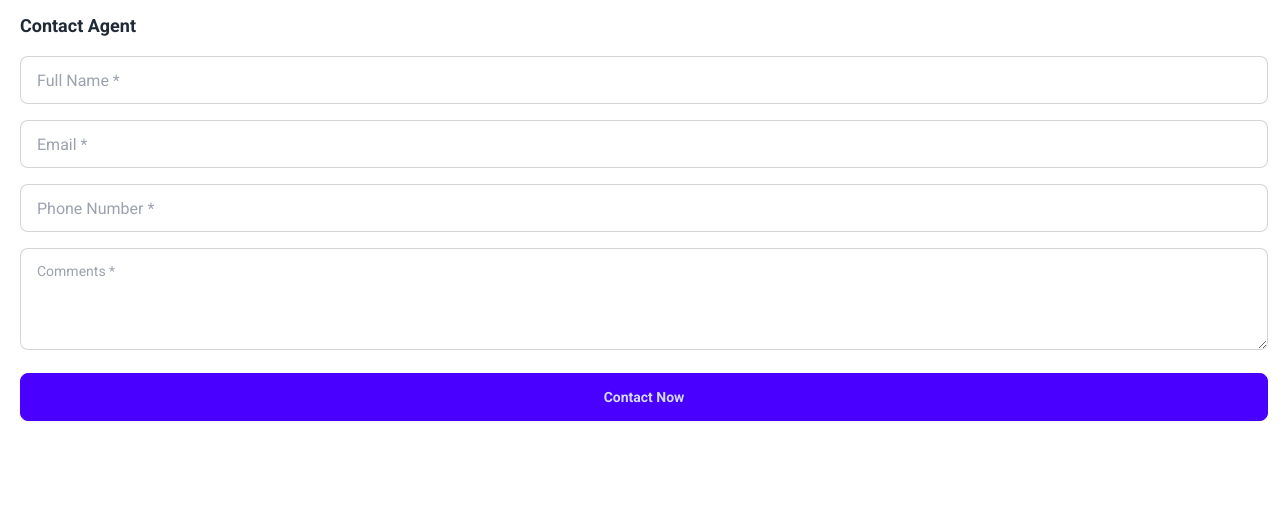
Test: ContactForm Component › submits the form and shows success notification
The width and height of the screenshot is (1280, 512).
# Fill out form
Type "John Doe" into the field with placeholder "Full Name *".
click(644, 80); type("John Doe")  # box [20,56,1268,104]
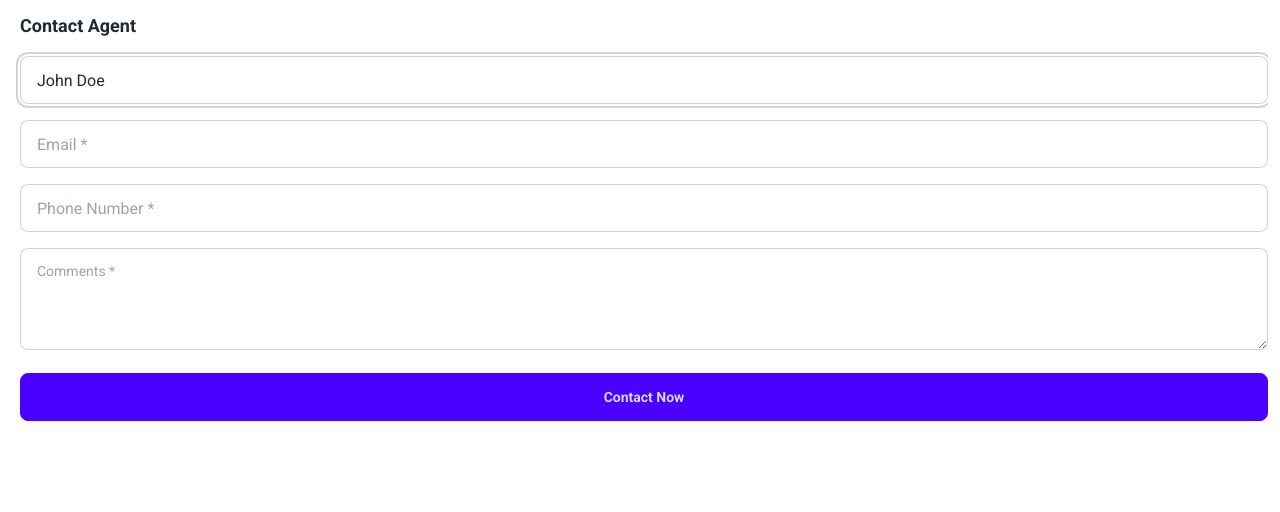
Type "john@example.com" into the field with placeholder "Email *".
click(644, 144); type("john@example.com")  # box [20,120,1268,168]
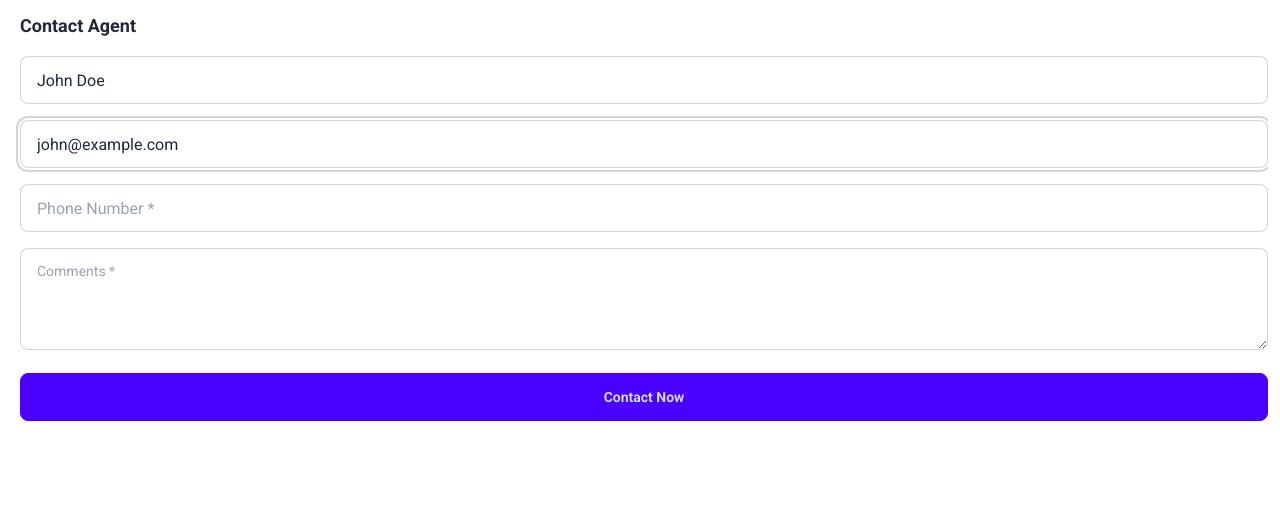
Type "1234567890" into the field with placeholder "Phone Number *".
click(644, 208); type("1234567890")  # box [20,184,1268,232]
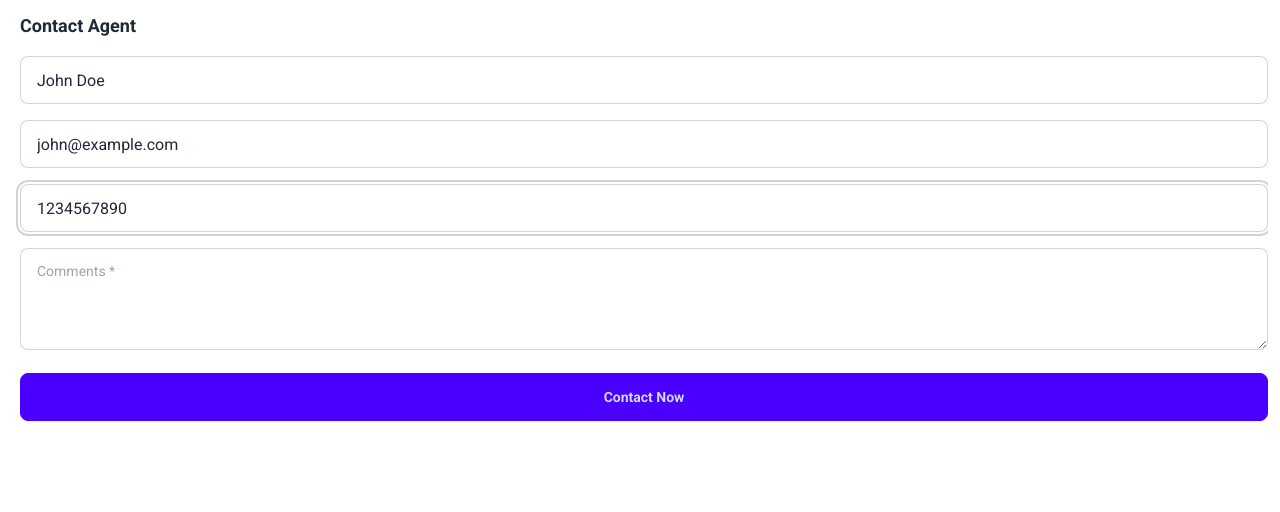
Type "Looking forward to working with you!" into the text box with placeholder "Comments *".
click(644, 299); type("Looking forward to working with you!")  # box [20,248,1268,350]
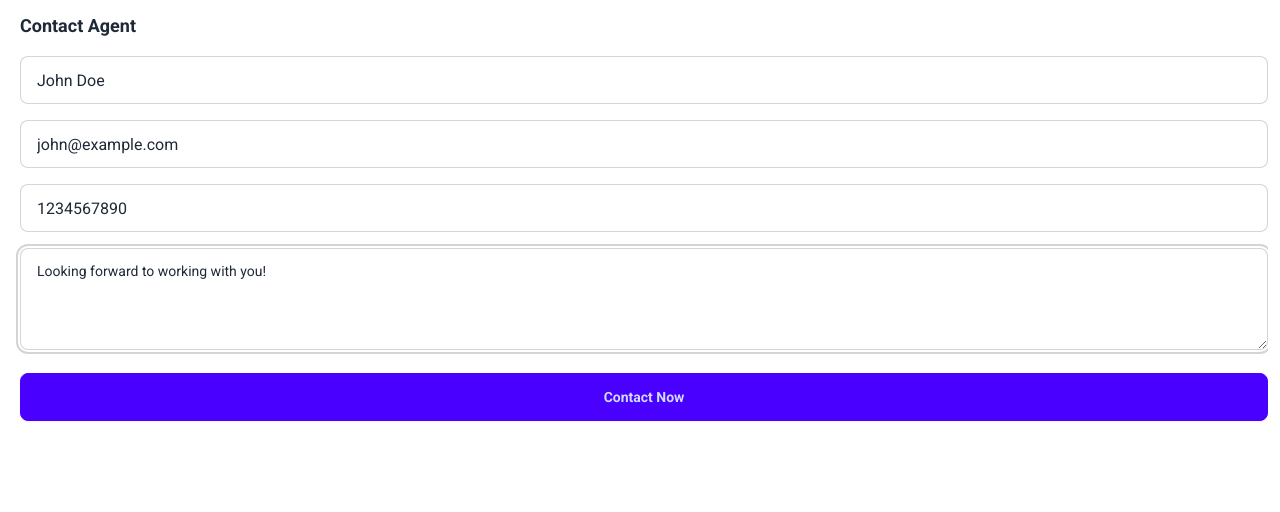
# Submit the form
Click the button "Contact Now".
click(644, 397)  # box [20,373,1268,421]
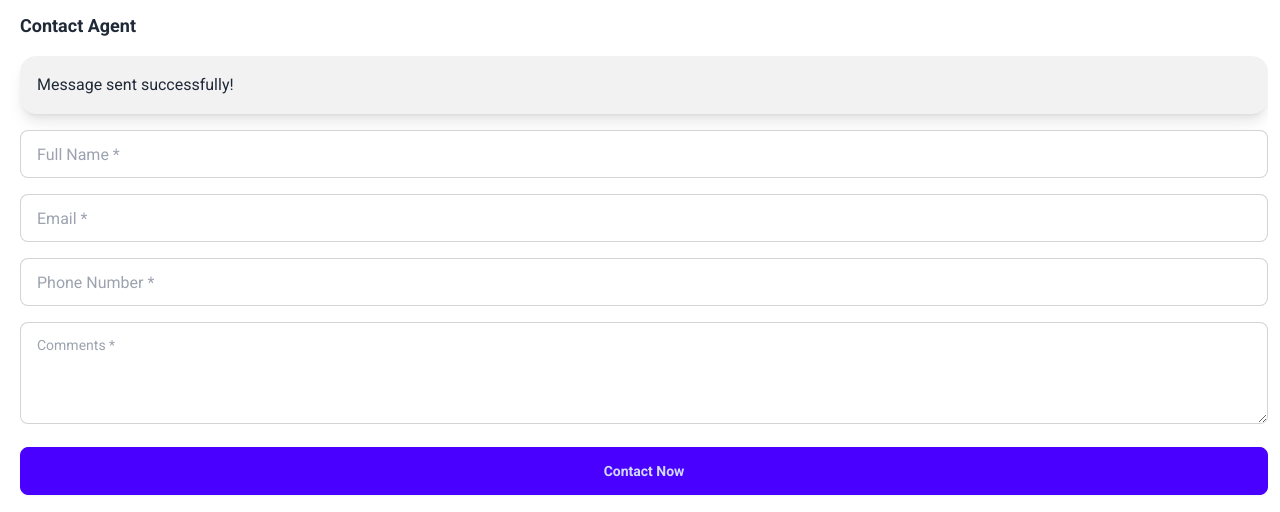
Check: the text "Message sent successfully!" is shown, box [37,73,234,97]
Check: the field with placeholder "Full Name *" is empty, box [20,130,1268,178]
Check: the field with placeholder "Email *" is empty, box [20,194,1268,242]
